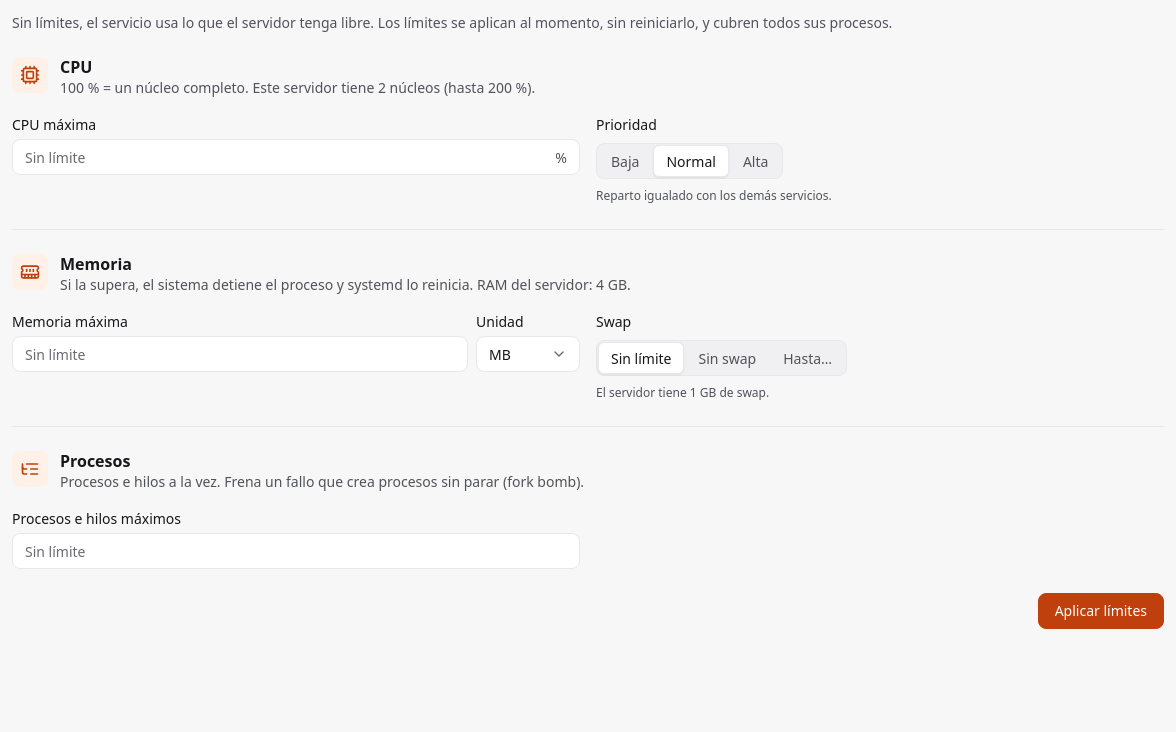
Test case: ResourceLimitsForm › un error del agente se muestra en el formulario
Click the button "Aplicar límites" at (1101, 611), box [1038,593,1164,629]
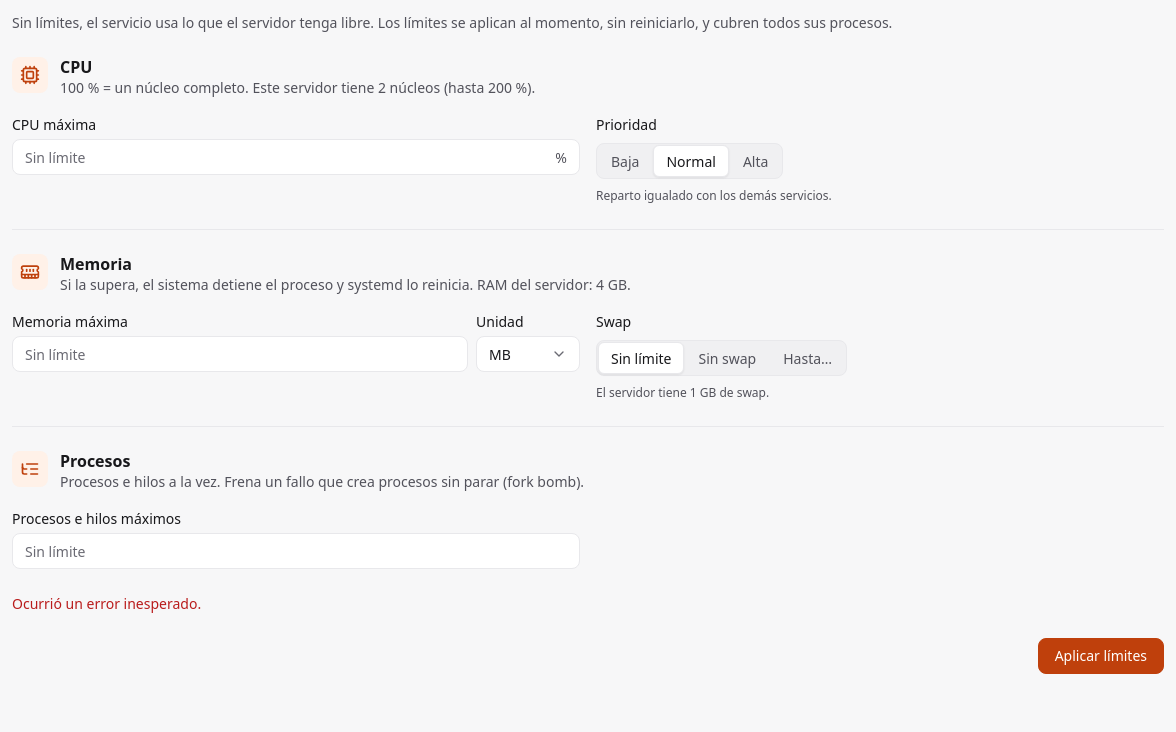
Now the message "Ocurrió un error inesperado." is shown, box [12,594,201,613]
